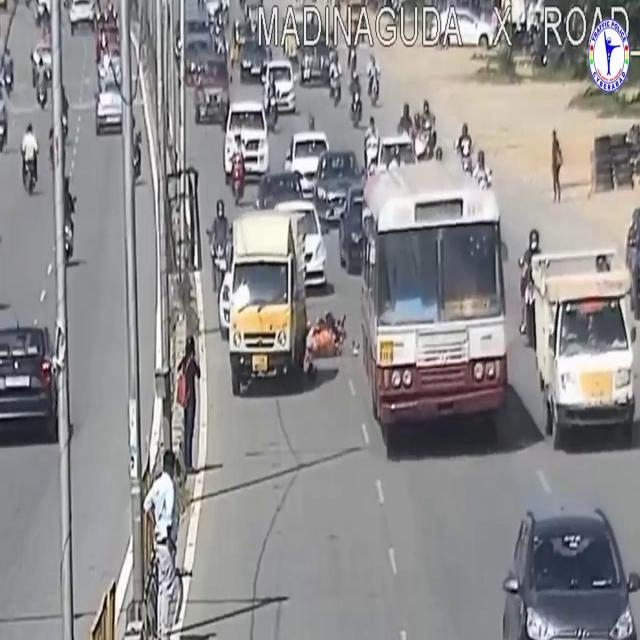accident: (226, 191, 351, 402)
non_accident: (173, 12, 324, 200), (64, 1, 124, 150)
